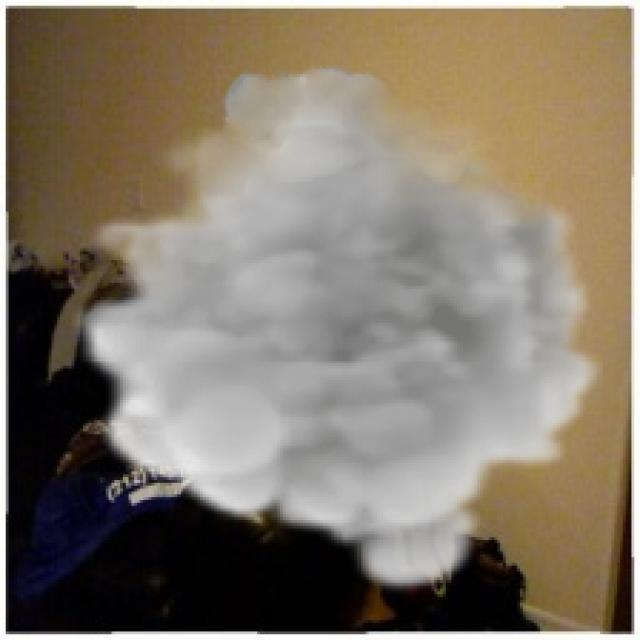Smoke: (71, 62, 603, 598)
